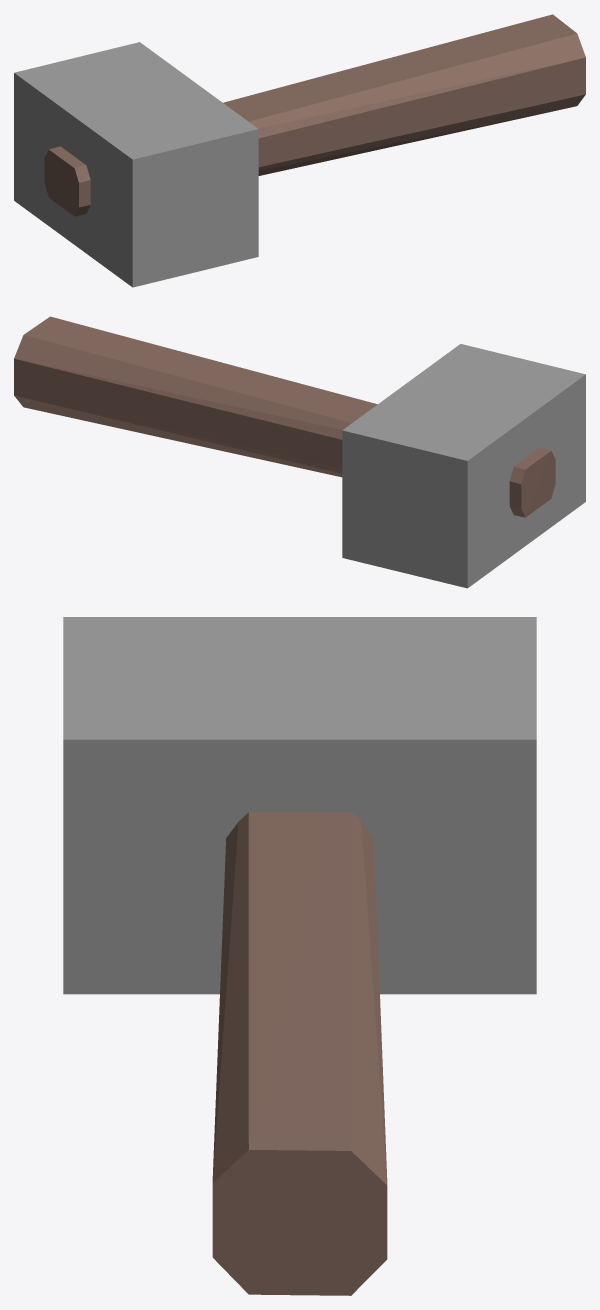
File: hammer.glb
3 renders of one model, top to bottom at view 1: azimuth 30°, elevation 25°; view 2: azimuth 150°, elevation 25°; view 3: azimuth 270°, elevation 25°, orthographic. The views are drawn at different scales.
Parts seen in each view (by area): view 1: rock02_Mesh_007_Base_0.1783; view 2: rock02_Mesh_007_Base_0.1783; view 3: rock02_Mesh_007_Base_0.1783.
Part boxes in pixels (x1,y1,x2,y2): rock02_Mesh_007_Base_0.1783: (14, 14, 585, 287); rock02_Mesh_007_Base_0.1783: (14, 316, 585, 588); rock02_Mesh_007_Base_0.1783: (63, 617, 536, 1295).
Bounding box in the file's own units: 0.4547 × 0.1102 × 0.1855.
1 material, 1 textured.
